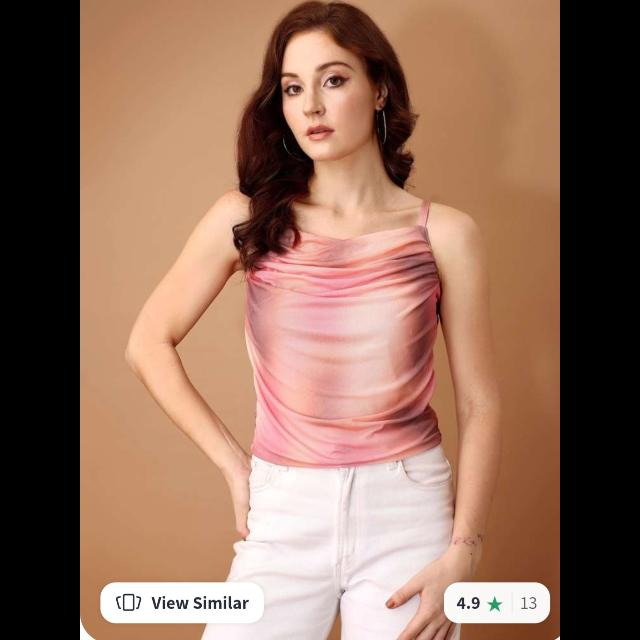bottom: (235, 438, 462, 640)
top: (251, 208, 431, 464)
